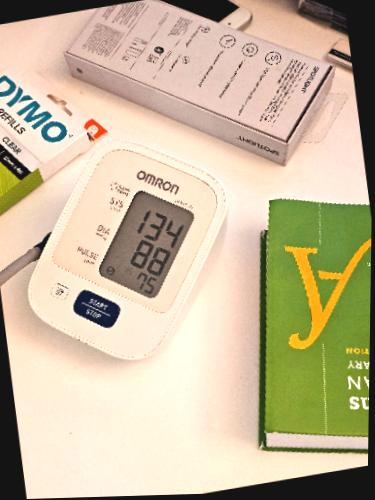bpm: (94, 184, 196, 301)
